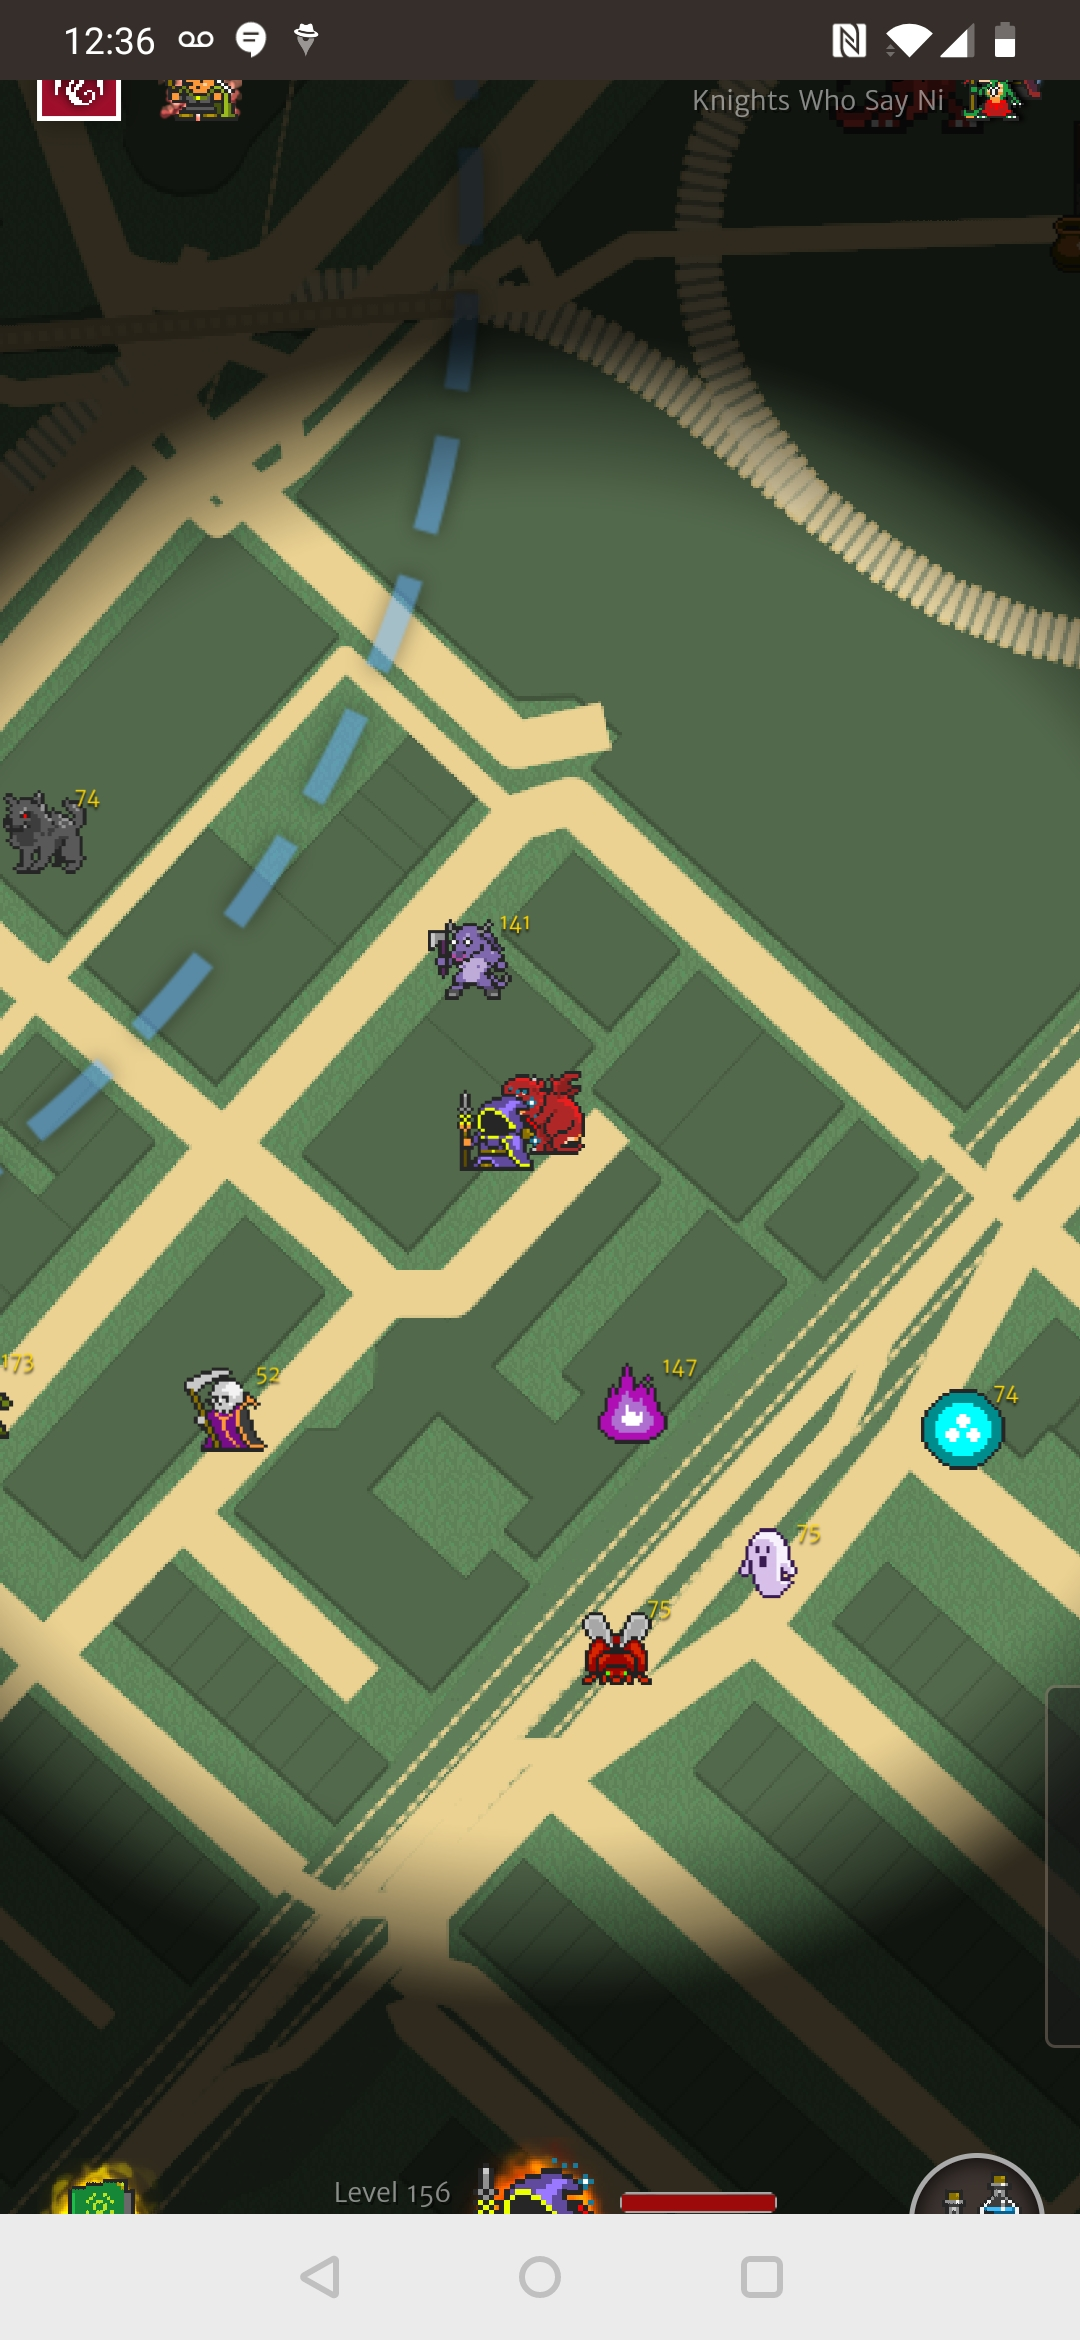monster: (418, 899, 546, 1025), (156, 1361, 292, 1478), (582, 1350, 705, 1466), (913, 1378, 1031, 1494), (1, 776, 113, 898), (572, 1596, 677, 1699), (731, 1520, 823, 1604)
player: (441, 1086, 541, 1178)
